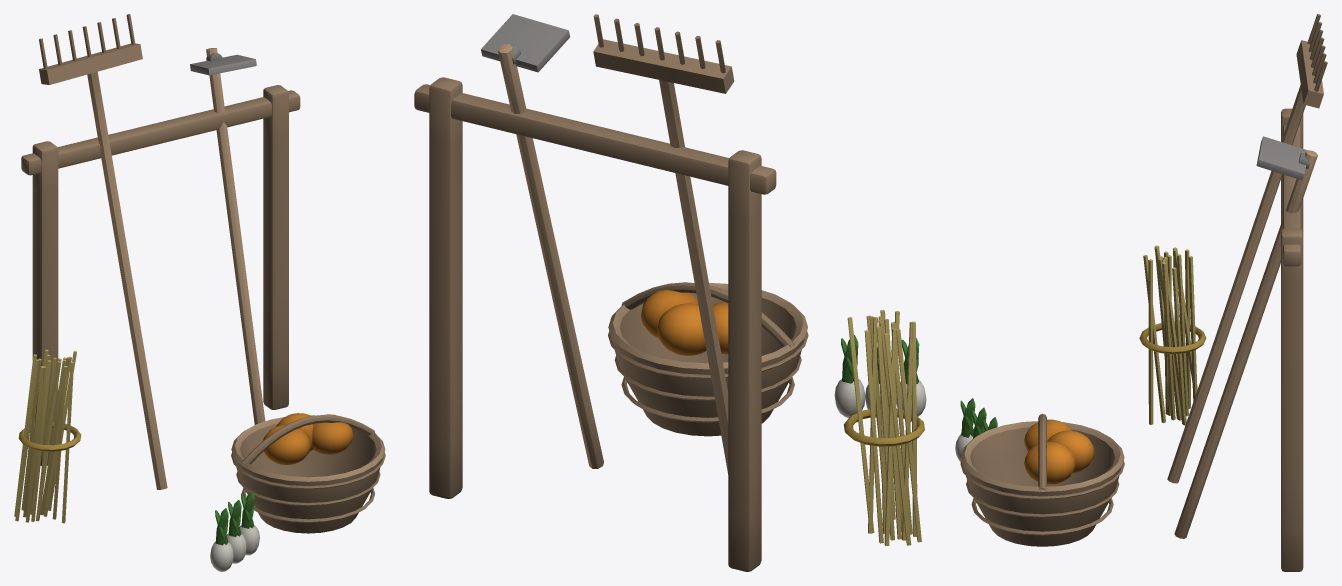
Rendered from obj_kit_tools.glb.
3 renders of one model, left to right at view 1: azimuth 30°, elevation 25°; view 2: azimuth 150°, elevation 25°; view 3: azimuth 270°, elevation 25°, orthographic. The views are drawn at different scales.
Parts seen in each view (by area): view 1: basket, Cube.001, tool, Cube, Cube.002, tool.001, Sphere, handle, Sphere.002, Cylinder.009, Cylinder.014, Cylinder.008 (+10 smaller); view 2: Cube.001, Cube, basket, tool, tool.001, Cube.002, Sphere.001, handle, Sphere.002, Cylinder.013, Torus.003, Cylinder.008 (+13 smaller); view 3: basket, Cube.001, tool, tool.001, Sphere.002, Cube.002, Sphere.001, Cylinder.009, Cylinder.015, Torus, Cylinder.010, Cylinder.017 (+10 smaller).
Boxes of the visible parts, bbox=[...] form: basket: bbox=[231, 415, 385, 533]; Cube.001: bbox=[263, 85, 288, 409]; tool: bbox=[39, 14, 167, 489]; Cube: bbox=[32, 141, 58, 465]; Cube.002: bbox=[21, 90, 300, 175]; tool.001: bbox=[190, 48, 265, 424]; Sphere: bbox=[263, 424, 310, 464]; handle: bbox=[242, 414, 374, 464]; Sphere.002: bbox=[312, 414, 353, 454]; Cylinder.009: bbox=[62, 361, 73, 523]; Cylinder.014: bbox=[31, 360, 51, 521]; Cylinder.008: bbox=[15, 359, 38, 521]; Cube.001: bbox=[429, 77, 462, 498]; Cube: bbox=[728, 150, 761, 571]; basket: bbox=[608, 283, 807, 436]; tool: bbox=[593, 14, 734, 474]; tool.001: bbox=[481, 14, 603, 468]; Cube.002: bbox=[414, 84, 776, 194]; Sphere.001: bbox=[657, 303, 706, 355]; handle: bbox=[621, 282, 794, 347]; Sphere.002: bbox=[640, 289, 698, 337]; Cylinder.013: bbox=[864, 330, 883, 543]; Torus.003: bbox=[844, 409, 924, 446]; Cylinder.008: bbox=[896, 329, 921, 542]; basket: bbox=[960, 421, 1124, 546]; Cube.001: bbox=[1281, 228, 1303, 571]; tool: bbox=[1167, 14, 1327, 483]; tool.001: bbox=[1174, 136, 1317, 538]; Sphere.002: bbox=[1024, 441, 1075, 484]; Cube.002: bbox=[1282, 125, 1301, 266]; Sphere.001: bbox=[1047, 430, 1094, 473]; Cylinder.009: bbox=[1148, 259, 1153, 424]; Cylinder.015: bbox=[1162, 262, 1175, 420]; Torus: bbox=[971, 498, 1113, 535]; Cylinder.010: bbox=[1172, 267, 1185, 423]; Cylinder.017: bbox=[1177, 254, 1188, 416].
Bounding box in the file's own units: 1.11 × 1.31 × 1.
